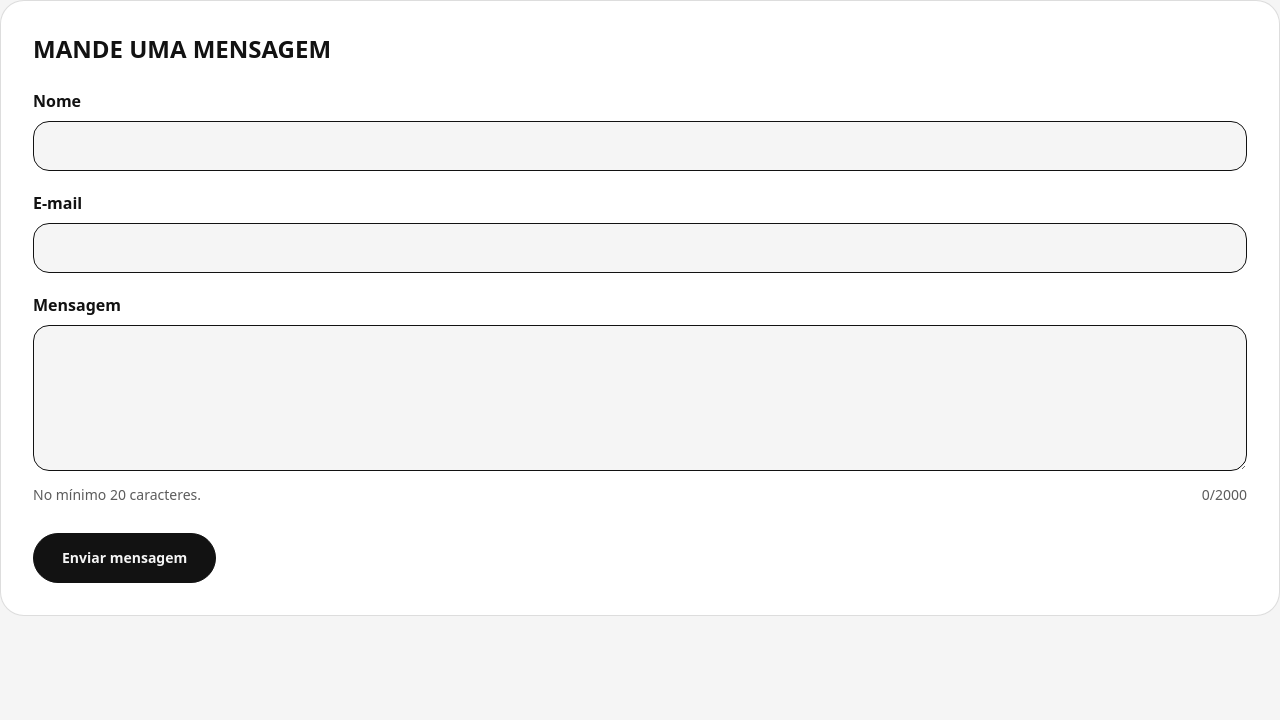
ContactForm › mostra os erros que o servidor devolver
The width and height of the screenshot is (1280, 720).
Type "Ana Souza" into the field labelled "Nome" at [640, 146], box [33, 121, 1247, 171]
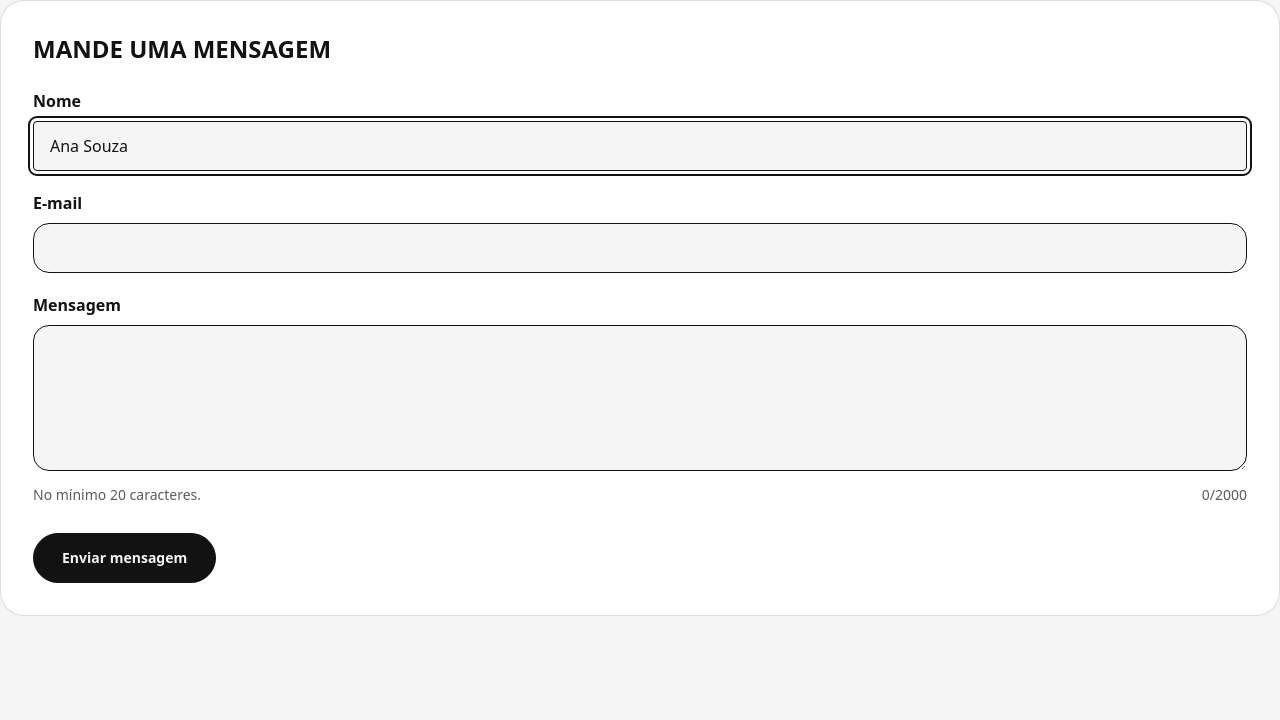
Type "ana@exemplo.com" into the field labelled "E-mail" at [640, 248], box [33, 223, 1247, 273]
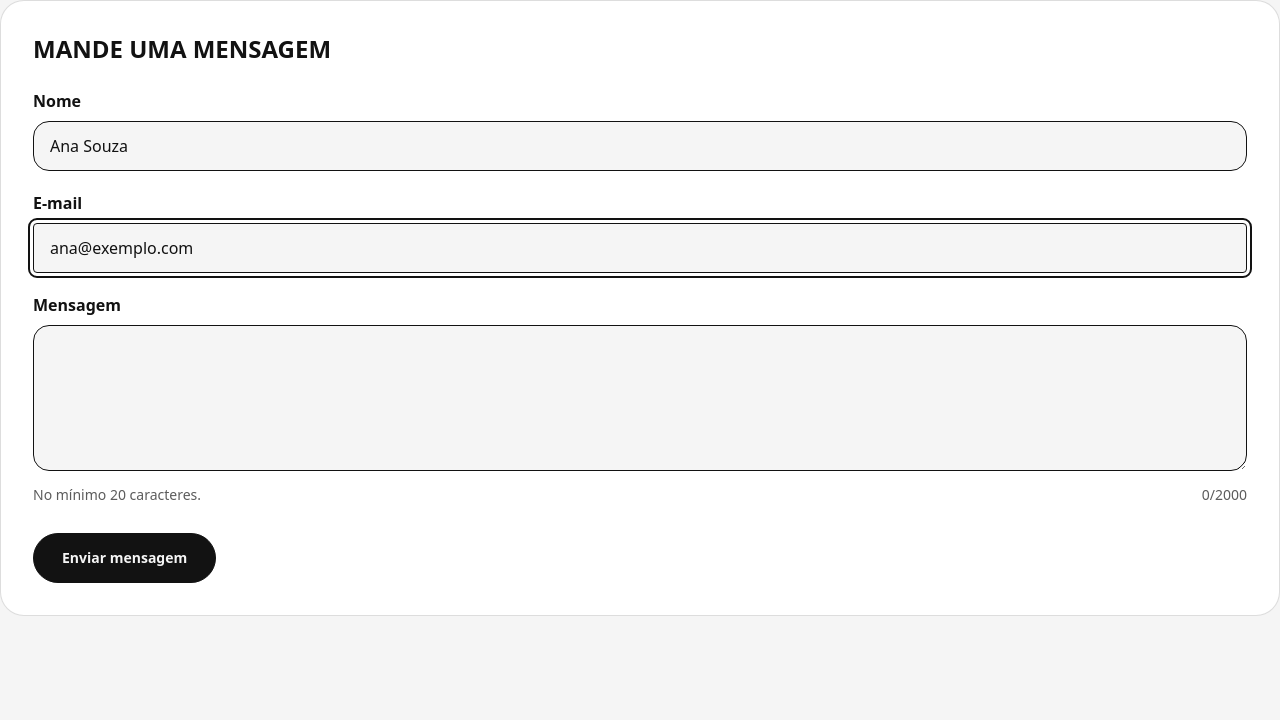
Type "Quero conversar sobre uma vaga de estágio." into the text box labelled "Mensagem" at [640, 398], box [33, 325, 1247, 471]
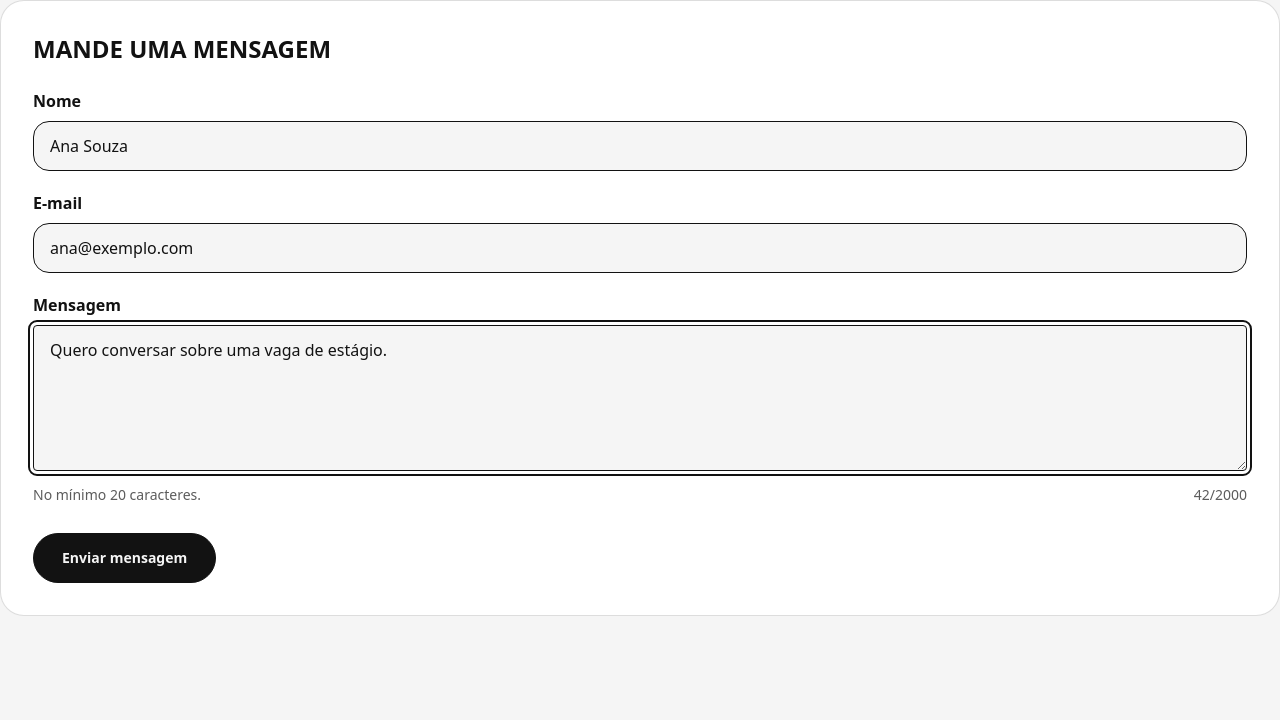
Click the button "Enviar mensagem" at [125, 558], box [33, 533, 216, 583]
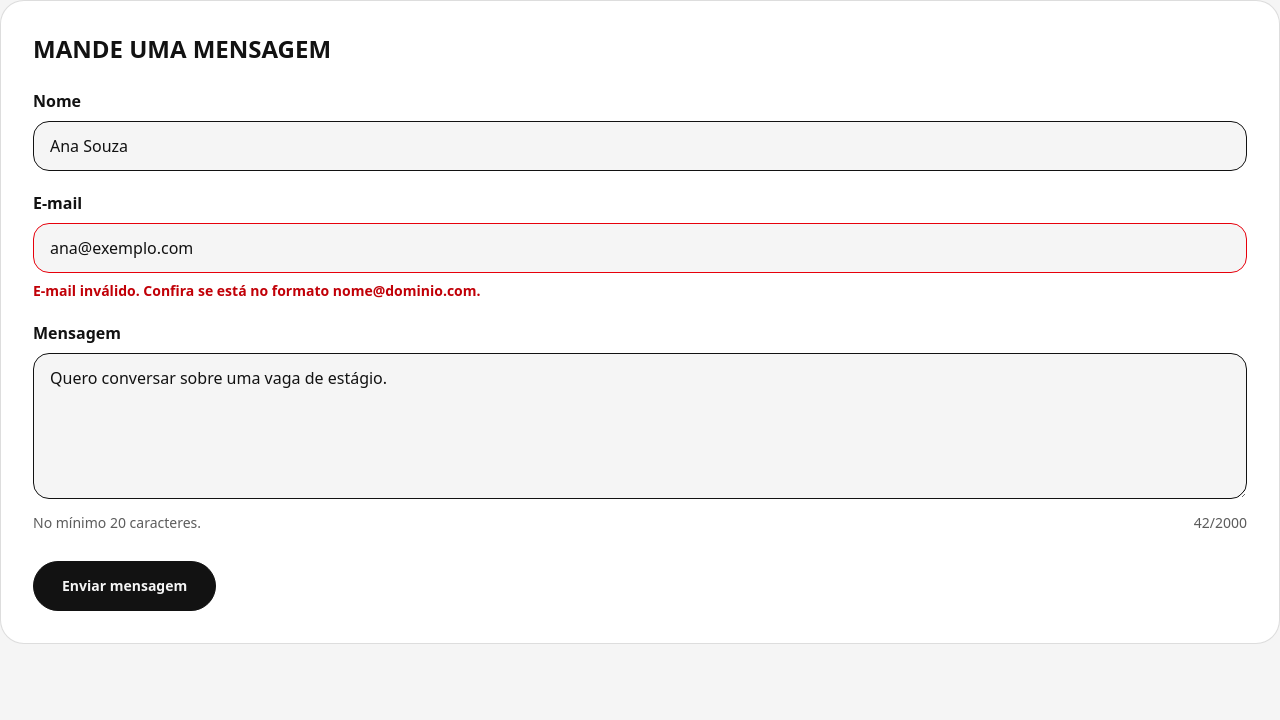
Expected: the text "E-mail inválido. Confira se está no formato nome@dominio.com." is shown, [33, 281, 480, 300]
